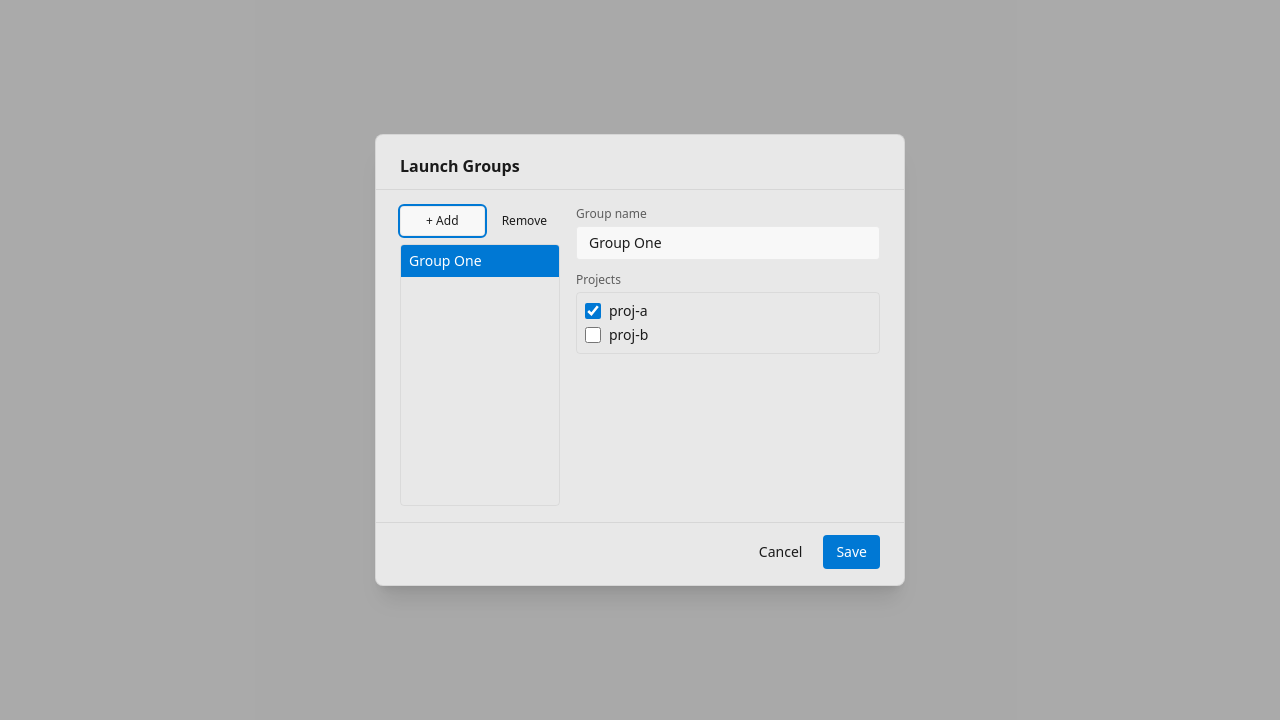
Test: GroupManagerDialog › can remove a group
Expected: the option "Group One" is shown, [401,245,559,277]
Click the button "Remove".
click(524, 221)  # box [489,206,560,236]
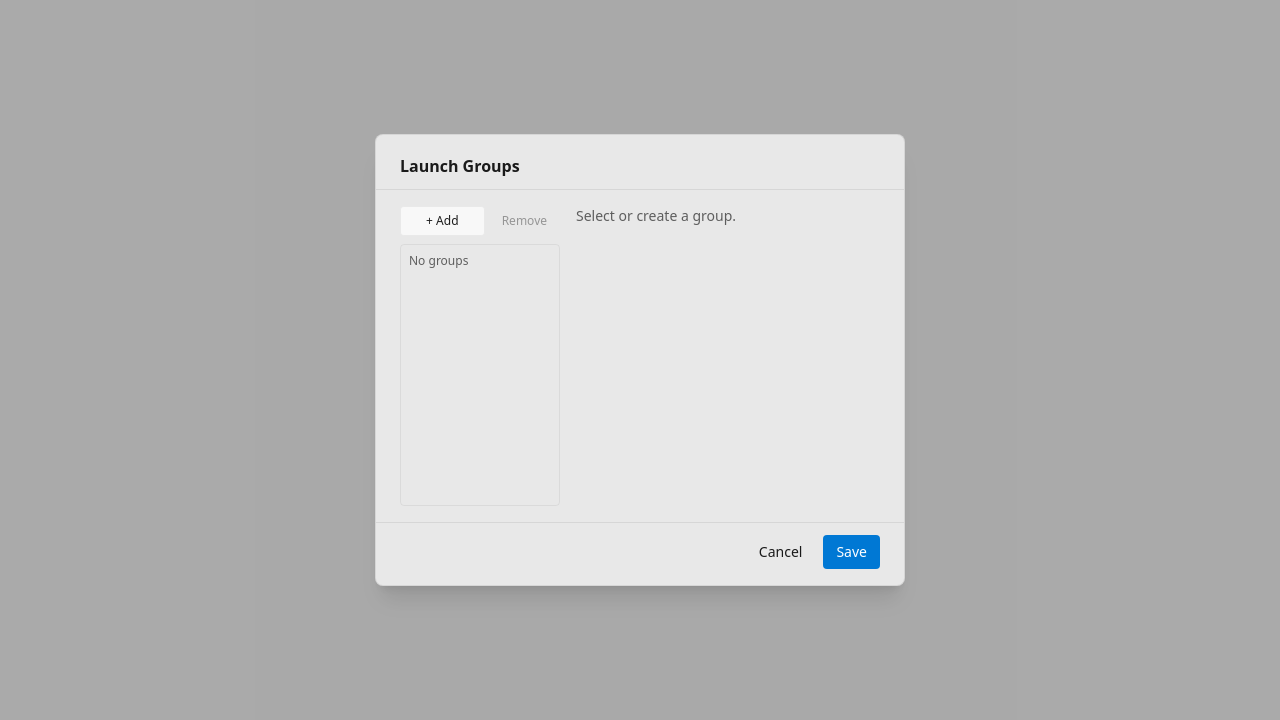
Result: the option "Group One" is gone
